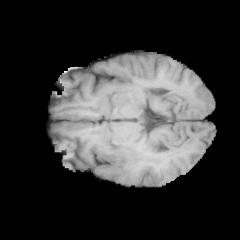glioma: (97, 142, 160, 183)
